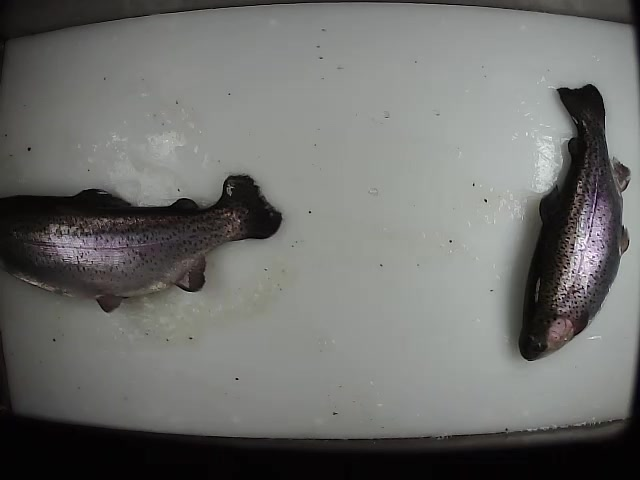fish: (3, 173, 285, 315), (516, 80, 633, 364)
